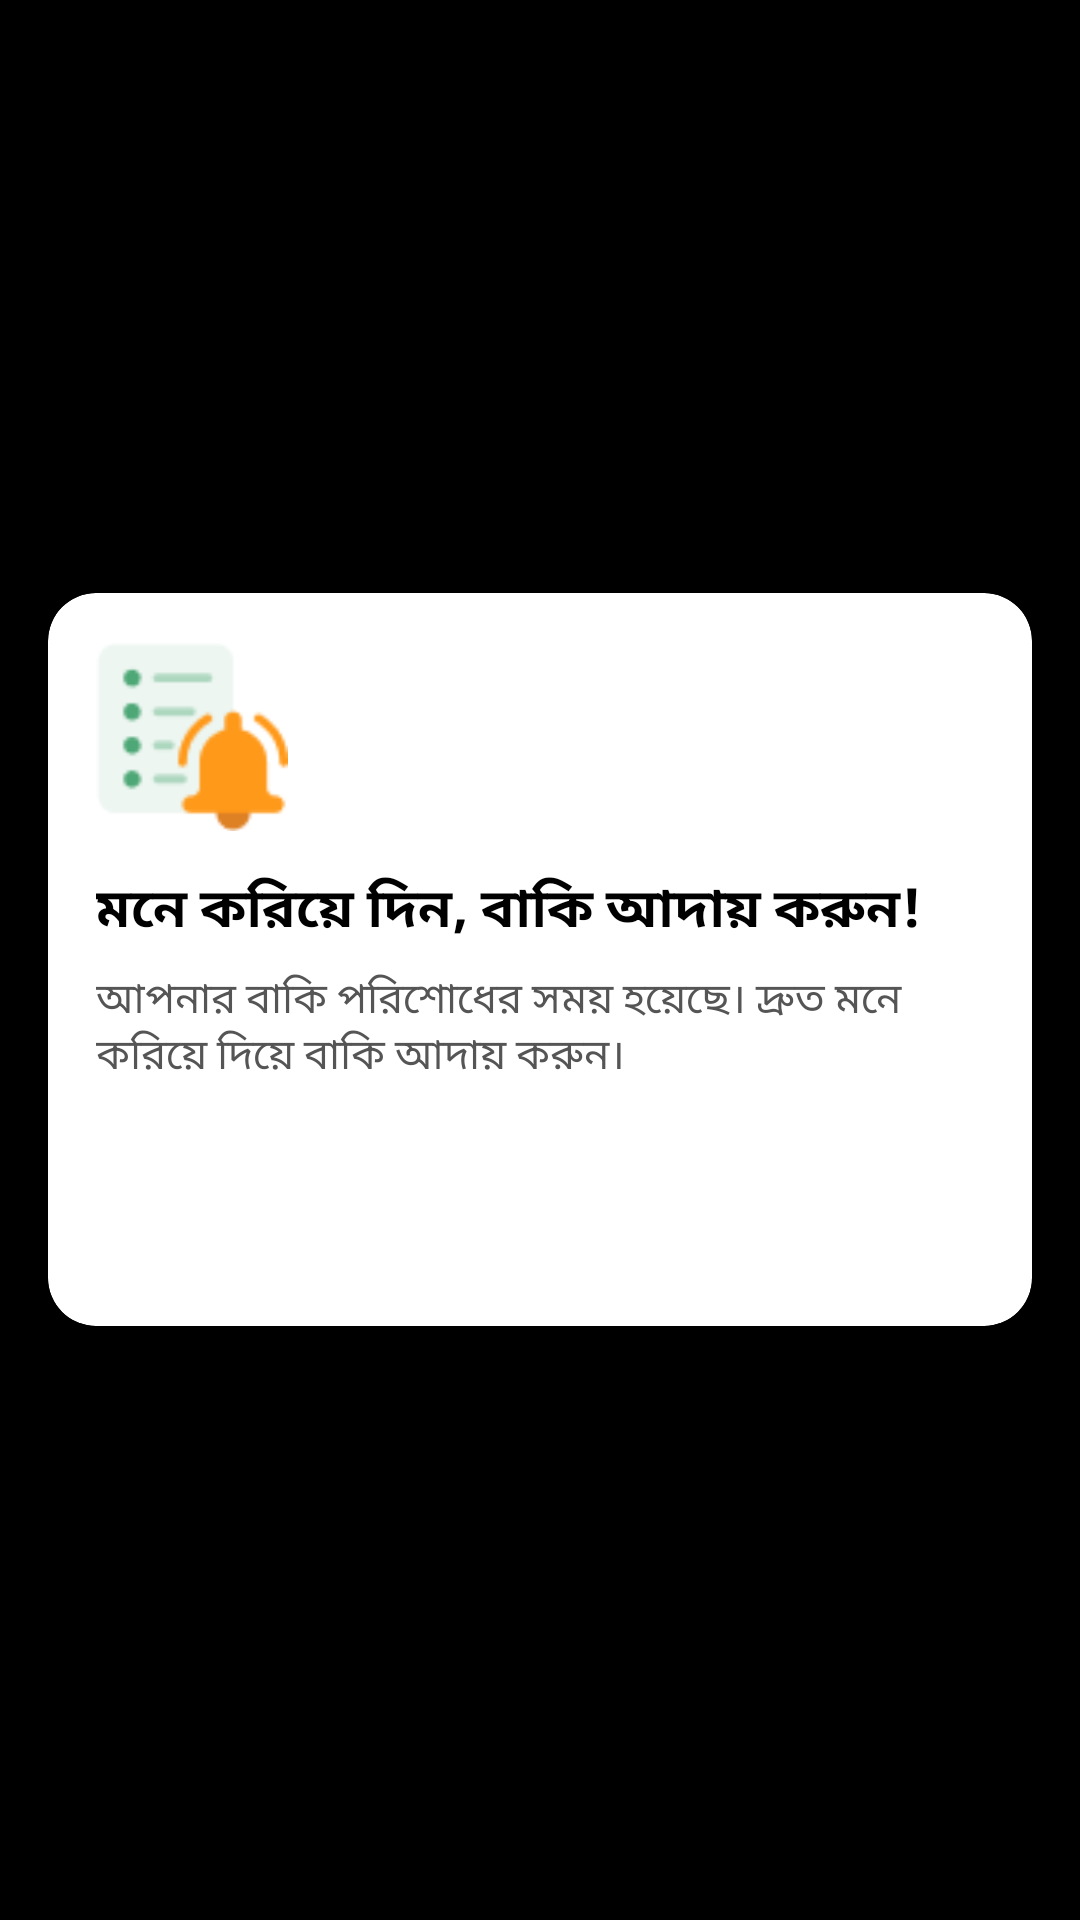

Point at icon controls on the screen. Image size 1080*1920, points as point (x, y).
reminder alarm: point (193, 737)
